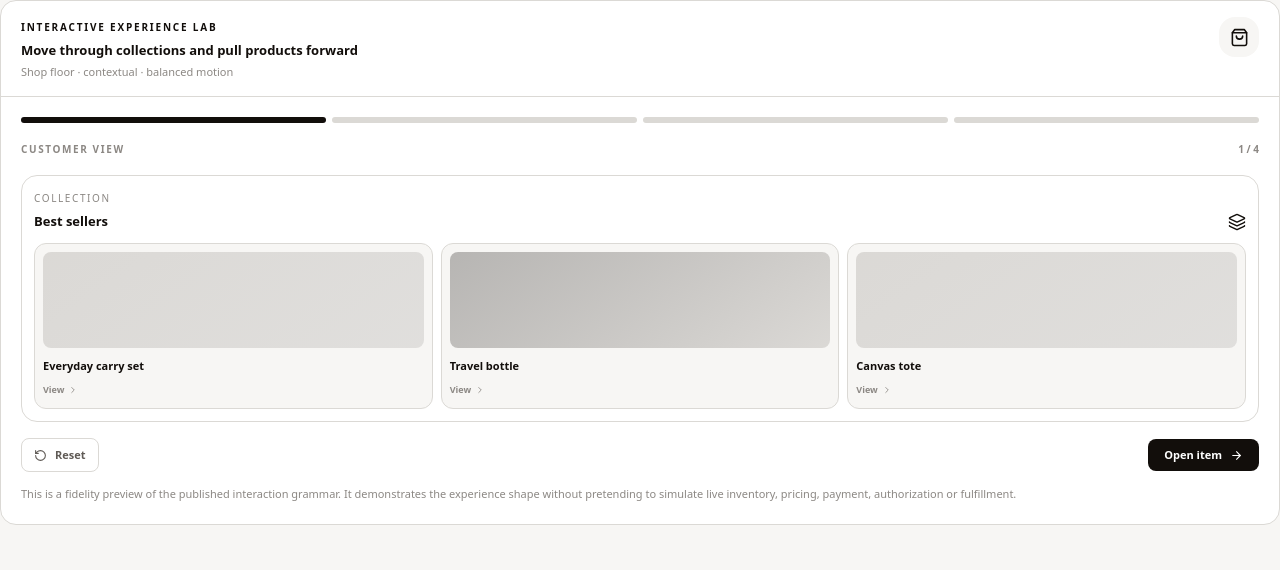
Test: ExperienceSimulator › progresses from detail to the configured commit state
Click the button "Everyday carry set View".
click(233, 326)  # box [34, 243, 433, 409]
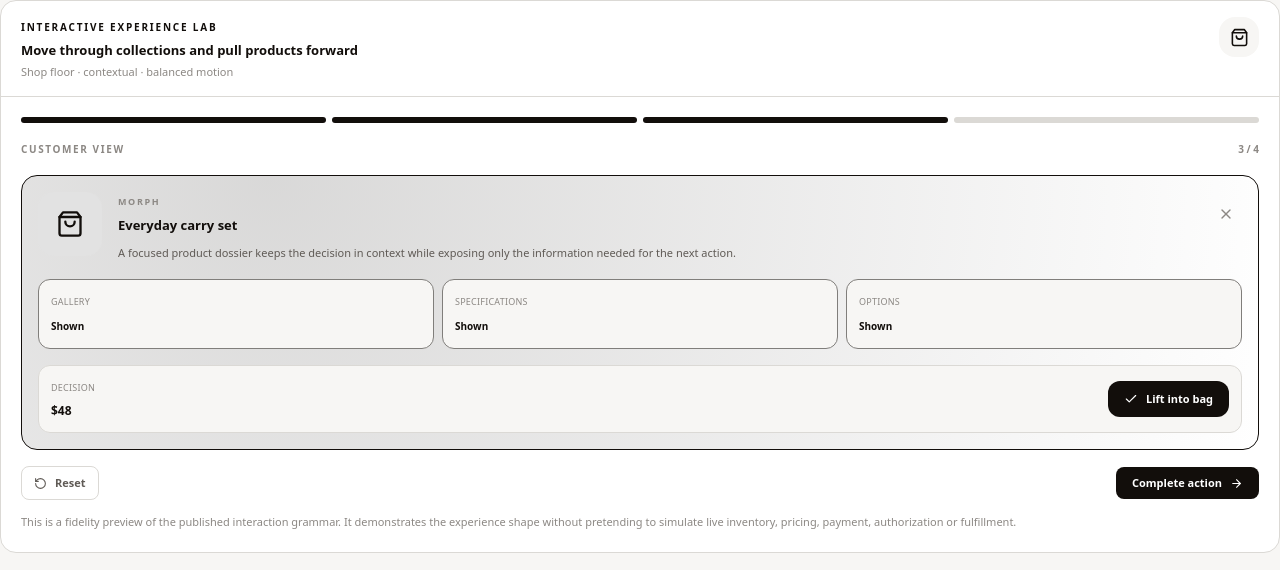
Expected: the tab named "Preview Product dossier" is selected, [643, 117, 948, 123]
Click the button "Lift into bag".
click(1168, 399)  # box [1108, 381, 1229, 417]
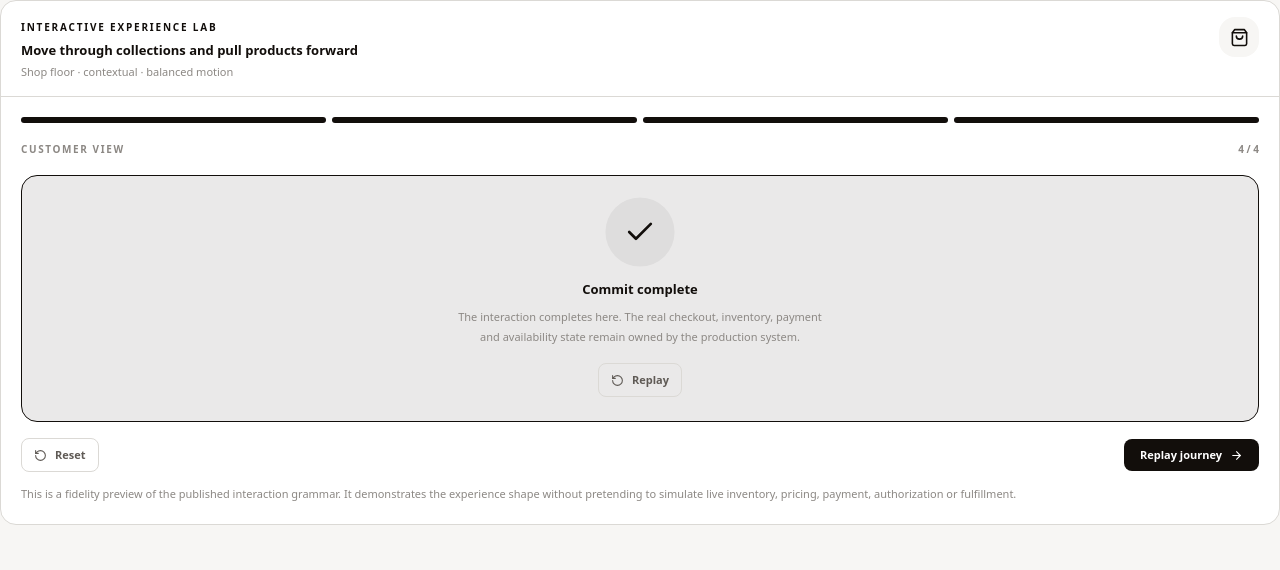
Expected: the heading "Commit complete" is shown, [582, 280, 698, 298]
